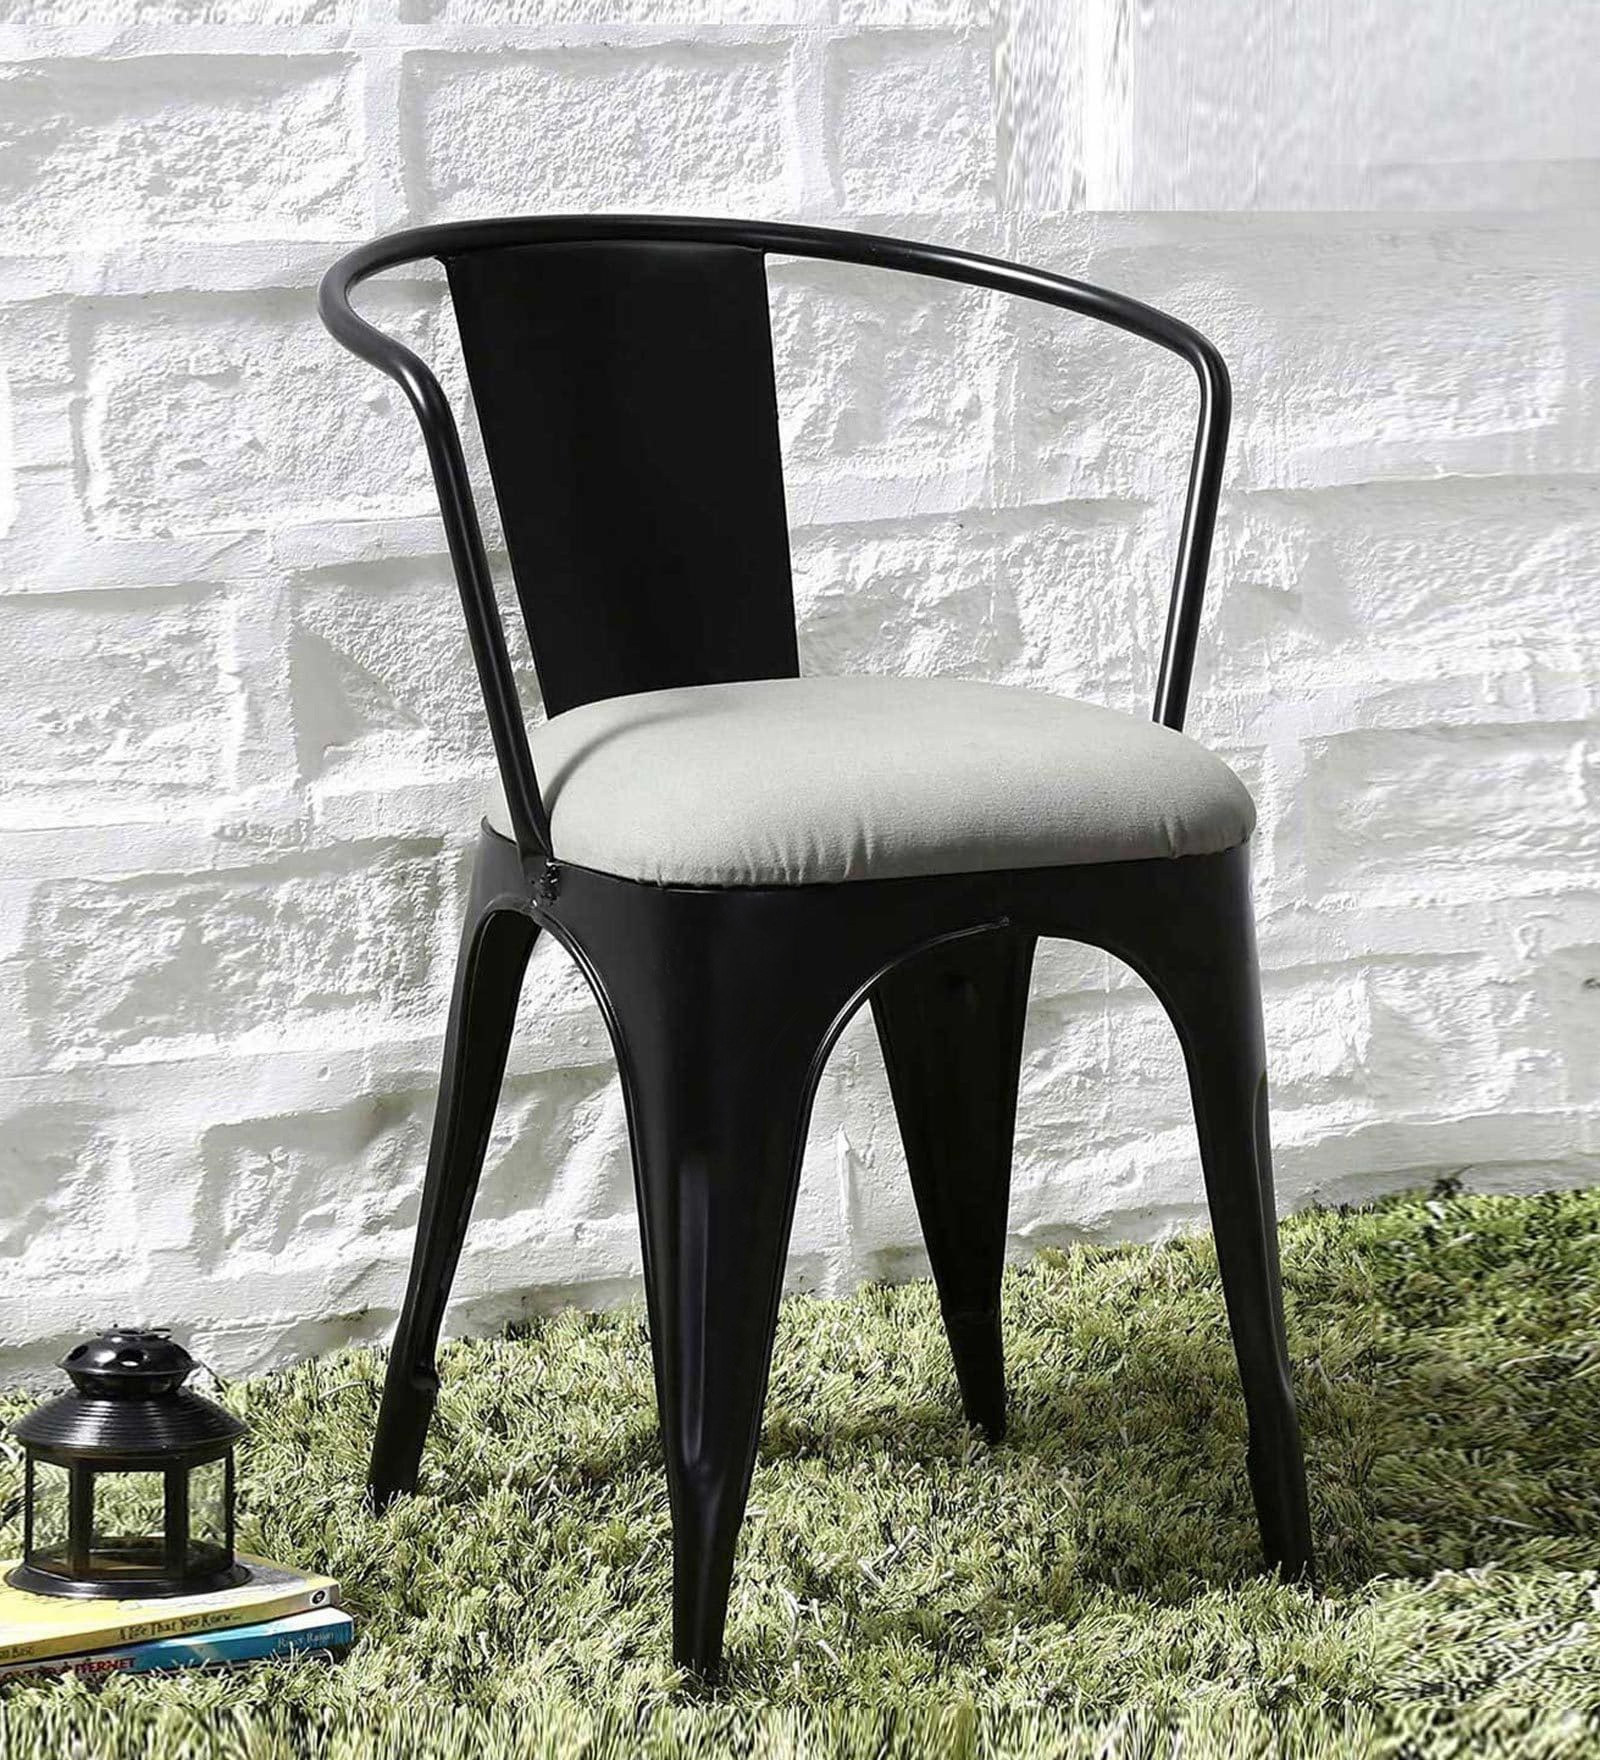Danlou Metal Chair with Cushion in Black Colour by Bohemiana: (273, 179, 1384, 1699)
